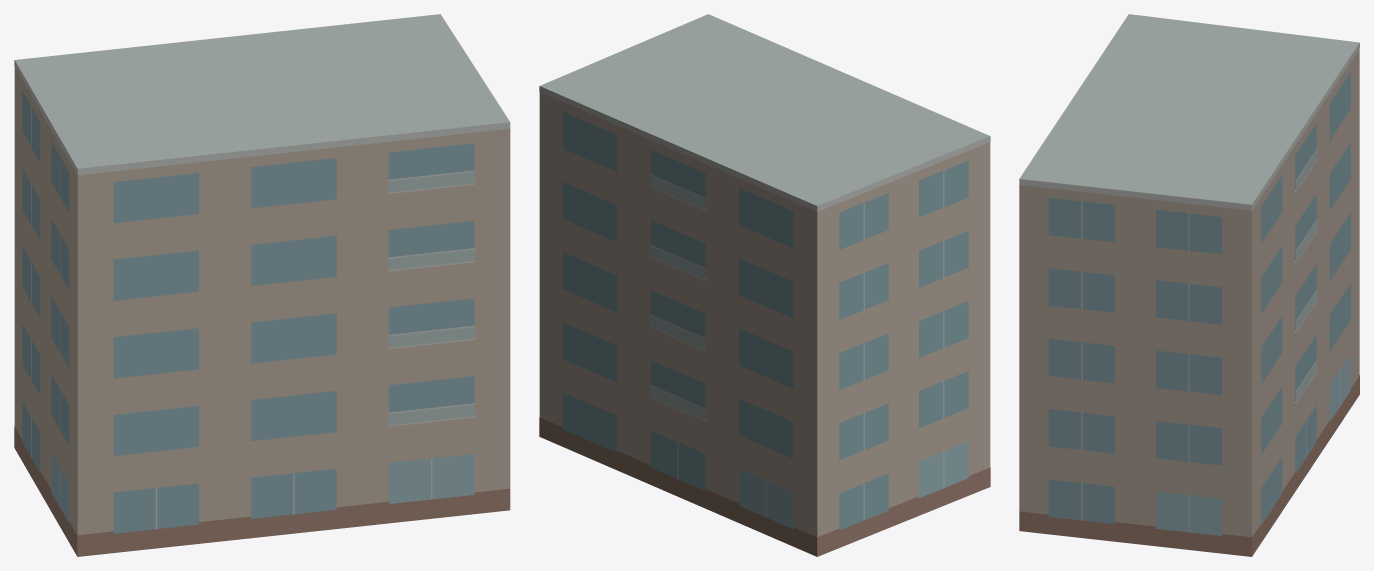
File: survey-upis-32872855.glb
3 renders of one model, left to right at view 1: azimuth 30°, elevation 25°; view 2: azimuth 150°, elevation 25°; view 3: azimuth 270°, elevation 25°, orthographic. The views are drawn at different scales.
Visible parts, largest first — view 1: survey-upis-32872855.tmp; view 2: survey-upis-32872855.tmp; view 3: survey-upis-32872855.tmp.
Boxes of the visible parts, x1=… form: survey-upis-32872855.tmp: x1=14, y1=14, x2=510, y2=556; survey-upis-32872855.tmp: x1=539, y1=14, x2=990, y2=556; survey-upis-32872855.tmp: x1=1019, y1=14, x2=1359, y2=556.
Bounding box in the file's own units: 16.86 × 14.5 × 12.72.
